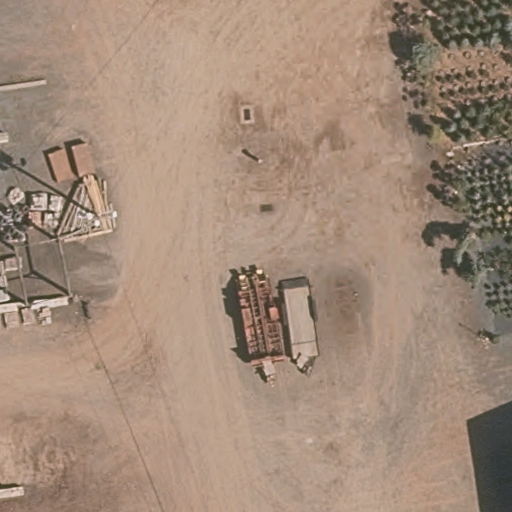DT: (67, 196, 118, 237)
